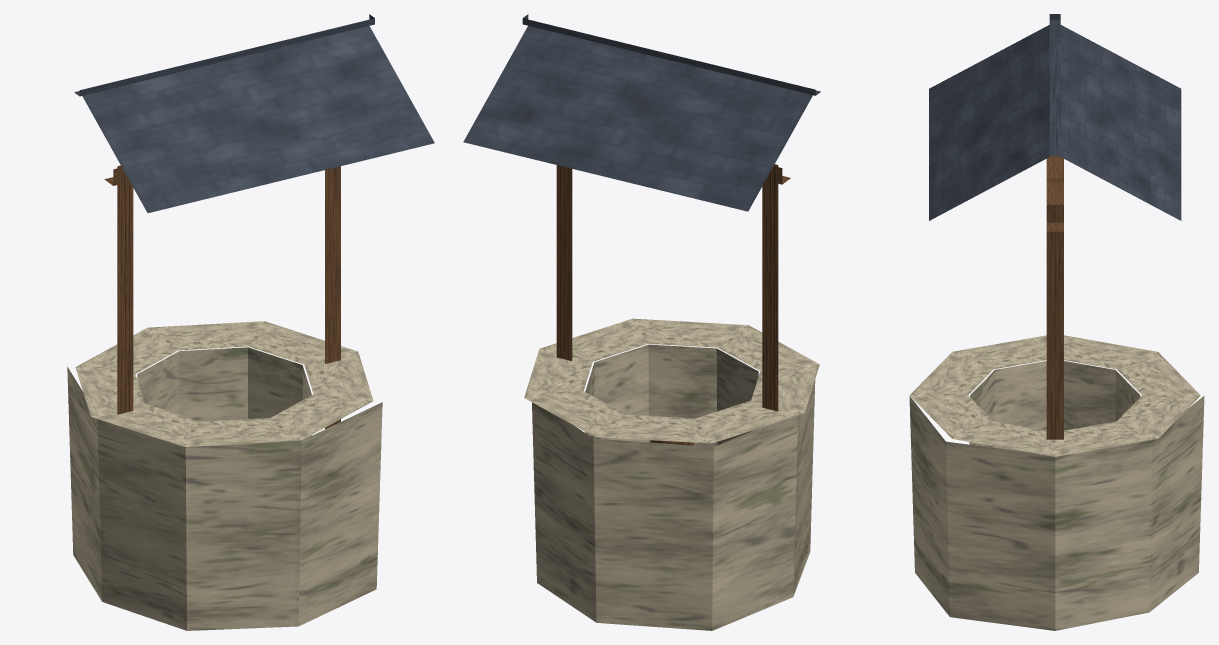
The model's file is prop_haven_well_a_lod2.glb.
3 views of the same model, side by side, from view 1: azimuth 30°, elevation 25°; view 2: azimuth 150°, elevation 25°; view 3: azimuth 270°, elevation 25° (orthographic). The views are drawn at different scales.
Parts seen in each view (by area): view 1: prop_haven_well_a_lod2; view 2: prop_haven_well_a_lod2; view 3: prop_haven_well_a_lod2.
Boxes of the visible parts, left/top/right/bottom form: prop_haven_well_a_lod2: left=67, top=14, right=434, bottom=630; prop_haven_well_a_lod2: left=463, top=14, right=820, bottom=630; prop_haven_well_a_lod2: left=909, top=14, right=1204, bottom=630.
Bounding box in the file's own units: 1.48 × 2.49 × 1.36.
1 material, 1 textured.
